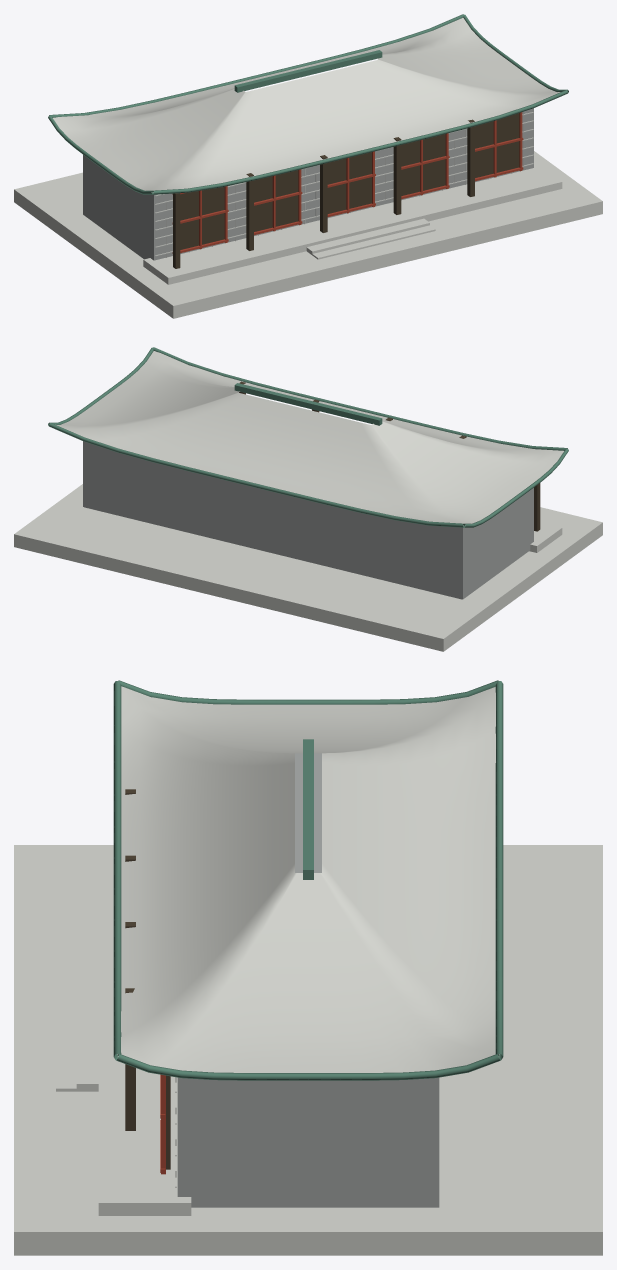
The model's file is xian.glb.
3 views of the same model, one above another, from view 1: azimuth 30°, elevation 25°; view 2: azimuth 150°, elevation 25°; view 3: azimuth 270°, elevation 25° (orthographic). The views are drawn at different scales.
Parts seen in each view (by area): view 1: slate roof tile seams, limestone foundation, porch stone paving, grey brick five bay hall, grey side wall, recessed wooden window lattice, recessed wooden window lattice.004, recessed wooden window lattice.001, recessed wooden window lattice.002, recessed wooden window lattice.003, green glazed edge, green glazed edge.002 (+10 smaller); view 2: slate roof tile seams, limestone foundation, grey brick five bay hall, grey side wall, green glazed edge.002, green glazed edge, roof ridge, green glazed edge.003, porch stone paving, green glazed edge.001; view 3: slate roof tile seams, limestone foundation, grey side wall.001, porch stone paving, green glazed edge, green glazed edge.002, green glazed edge.001, hall front stair, hall front stair.001, green glazed edge.003, grey brick five bay hall, roof ridge (+1 smaller).
Boxes of the visible parts, left/top/right/bottom form: slate roof tile seams: left=53, top=18, right=560, bottom=192; limestone foundation: left=14, top=151, right=602, bottom=318; porch stone paving: left=143, top=163, right=562, bottom=284; grey brick five bay hall: left=154, top=108, right=532, bottom=260; grey side wall: left=83, top=155, right=160, bottom=260; recessed wooden window lattice: left=180, top=186, right=224, bottom=249; recessed wooden window lattice.004: left=475, top=113, right=519, bottom=177; recessed wooden window lattice.001: left=254, top=170, right=298, bottom=231; recessed wooden window lattice.002: left=327, top=152, right=371, bottom=213; recessed wooden window lattice.003: left=401, top=134, right=445, bottom=195; green glazed edge: left=152, top=90, right=568, bottom=194; green glazed edge.002: left=49, top=14, right=463, bottom=117; slate roof tile seams: left=55, top=351, right=563, bottom=525; limestone foundation: left=14, top=484, right=602, bottom=651; grey brick five bay hall: left=84, top=441, right=462, bottom=599; grey side wall: left=456, top=488, right=533, bottom=599; green glazed edge.002: left=48, top=423, right=464, bottom=527; green glazed edge: left=153, top=347, right=567, bottom=450; roof ridge: left=234, top=383, right=382, bottom=425; green glazed edge.003: left=463, top=448, right=568, bottom=527; porch stone paving: left=529, top=522, right=562, bottom=552; green glazed edge.001: left=48, top=347, right=153, bottom=425; slate roof tile seams: left=117, top=686, right=499, bottom=1072; limestone foundation: left=14, top=845, right=602, bottom=1255; grey side wall.001: left=177, top=1077, right=439, bottom=1207; porch stone paving: left=98, top=848, right=191, bottom=1215; green glazed edge: left=113, top=681, right=121, bottom=1059; green glazed edge.002: left=495, top=681, right=503, bottom=1059; green glazed edge.001: left=116, top=1054, right=500, bottom=1080; hall front stair: left=76, top=978, right=98, bottom=1091; hall front stair.001: left=56, top=982, right=82, bottom=1091; green glazed edge.003: left=118, top=680, right=498, bottom=704; grey brick five bay hall: left=295, top=753, right=321, bottom=872; roof ridge: left=303, top=739, right=313, bottom=879.
Bounding box in the file's own units: 8.4 × 2.61 × 5.4.
